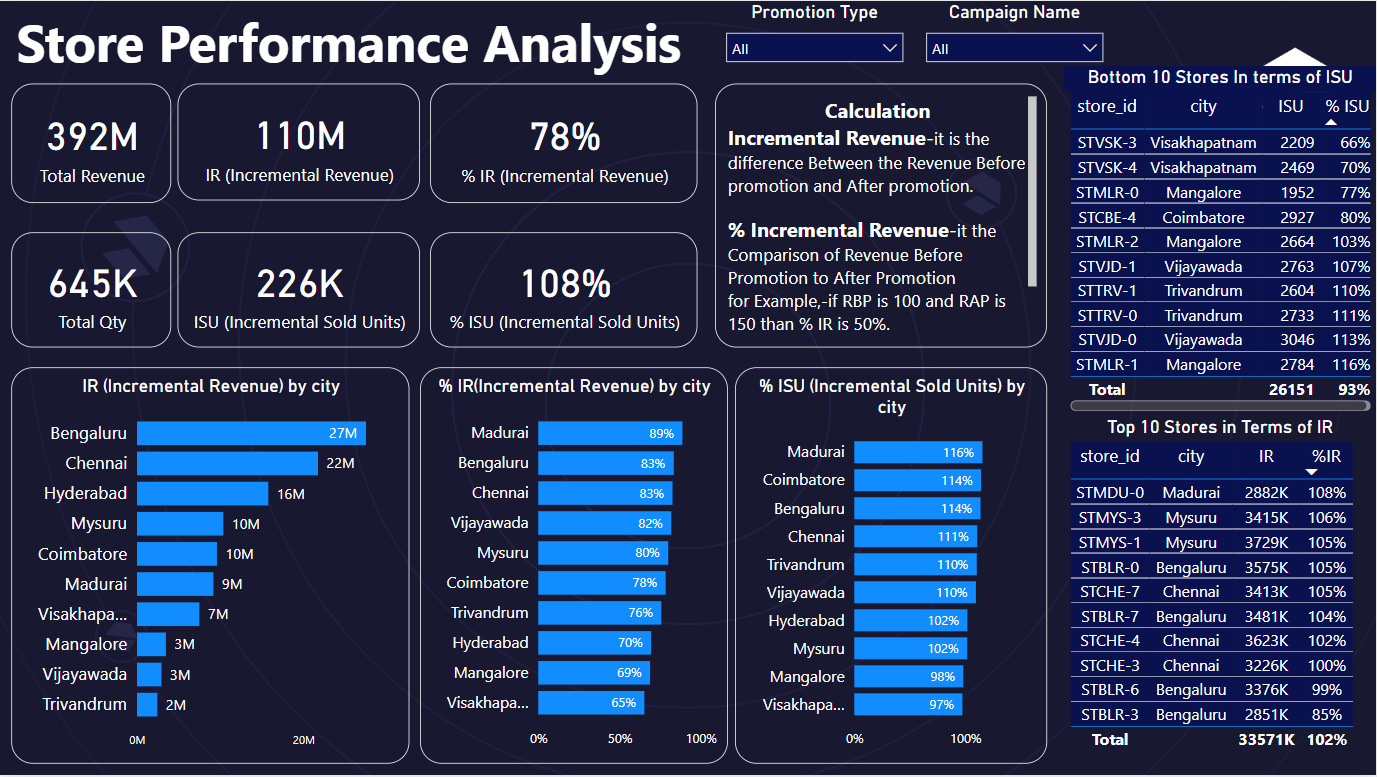

The dashboard page shown, as its layout file describes it:
{"tool":"powerbi","page":{"name":"Store Performance ","canvas":[1280,720],"ordinal":0},"visuals":[{"type":"tableEx","title":"Top 10 Stores in Terms of IR","fields":{"Values":["dim_stores.store_id","dim_stores.city","key Measures.IR (Incremental Revenue)","key Measures.% IR(Incremental Revenue)"]},"box":[989.4,385.6,290.9,323.8],"z":0},{"type":"tableEx","title":"Bottom 10 Stores In terms of ISU","fields":{"Values":["dim_stores.store_id","dim_stores.city","key Measures.ISU (Incremental Sold Units)","key Measures.% ISU (Incremental Sold Units)"]},"box":[989.1,60,290.9,325.5],"z":1000},{"type":"barChart","fields":{"Category":["dim_stores.city"],"Y":["key Measures.IR (Incremental Revenue)"]},"box":[11,340.7,370.4,368.5],"z":2000},{"type":"card","fields":{"Values":["key Measures.Total Revenue"]},"box":[10.9,76.4,149.1,110.9],"z":3000},{"type":"card","fields":{"Values":["key Measures.IR (Incremental Revenue)"]},"box":[165.5,76.4,225.5,109.1],"z":4000},{"type":"card","fields":{"Values":["key Measures.% IR(Incremental Revenue)"]},"box":[400,76.4,249.1,110.9],"z":5000},{"type":"barChart","fields":{"Category":["dim_stores.city"],"Y":["key Measures.% ISU (Incremental Sold Units)"]},"box":[683.7,340.7,290.7,368.6],"z":6000},{"type":"barChart","fields":{"Category":["dim_stores.city"],"Y":["key Measures.% IR(Incremental Revenue)"]},"box":[390.7,340.7,286,368.6],"z":7000},{"type":"card","fields":{"Values":["key Measures.ISU (Incremental Sold Units)"]},"box":[165.5,214.5,225.5,107.3],"z":8000},{"type":"card","fields":{"Values":["key Measures.Total Qty"]},"box":[10.9,214.5,149.1,107.3],"z":9000},{"type":"card","fields":{"Values":["key Measures.% ISU (Incremental Sold Units)"]},"box":[400,214.5,249.1,107.3],"z":10000},{"type":"textbox","box":[10.9,0,654.5,76.4],"z":11000},{"type":"textbox","box":[665.5,76.4,309.1,245.5],"z":12000},{"type":"slicer","title":"Promotion Type","fields":{"Values":["fact_events.promo_type"]},"box":[665.5,0,185.5,60],"z":13000},{"type":"slicer","title":"Campaign Name","fields":{"Values":["dim_campaigns.campaign_name"]},"box":[850.9,0,185.5,60],"z":14000}]}

Visuals, with their boxes in screenshot pixels (x1, y1, x2, y2), scaled from the page's 1280x720 canvas onto the 1379x777 screenshot:
"Top 10 Stores in Terms of IR" tableEx: 1066 416 1378 766
"Bottom 10 Stores In terms of ISU" tableEx: 1066 65 1378 416
barChart - dim_stores.city x key Measures.IR (Incremental Revenue): 12 368 411 765
card - key Measures.Total Revenue: 12 82 172 202
card - key Measures.IR (Incremental Revenue): 178 82 421 200
card - key Measures.% IR(Incremental Revenue): 431 82 699 202
barChart - dim_stores.city x key Measures.% ISU (Incremental Sold Units): 737 368 1050 765
barChart - dim_stores.city x key Measures.% IR(Incremental Revenue): 421 368 729 765
card - key Measures.ISU (Incremental Sold Units): 178 231 421 347
card - key Measures.Total Qty: 12 231 172 347
card - key Measures.% ISU (Incremental Sold Units): 431 231 699 347
textbox: 12 0 717 82
textbox: 717 82 1050 347
"Promotion Type" slicer: 717 0 917 65
"Campaign Name" slicer: 917 0 1117 65
